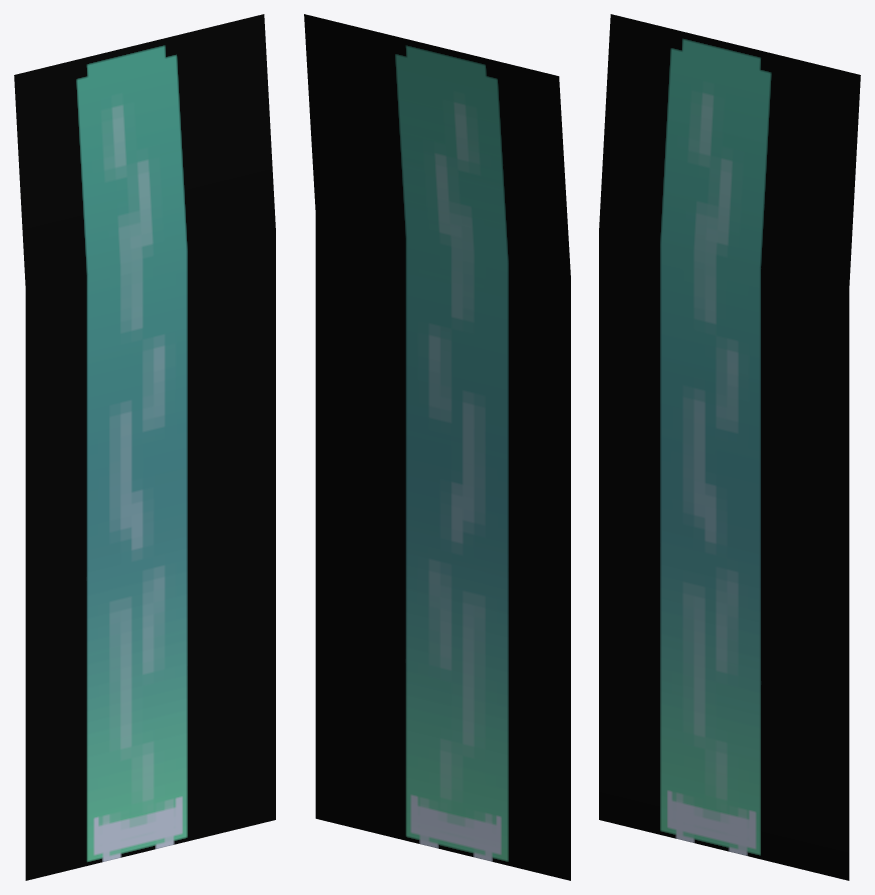
The model's file is Eau.glb.
The picture shows the model from 3 angles, left to right: view 1: azimuth 30°, elevation 25°; view 2: azimuth 150°, elevation 25°; view 3: azimuth 330°, elevation 25°; orthographic projection.
Parts seen in each view (by area): view 1: EauMur; view 2: EauMur; view 3: EauMur.
Boxes of the visible parts, <box> form: EauMur: <box>14,14,275,880</box>; EauMur: <box>304,14,570,880</box>; EauMur: <box>599,14,860,880</box>.
Bounding box in the file's own units: 0.8854 × 2.7 × 0.071.
1 material, 1 textured.
